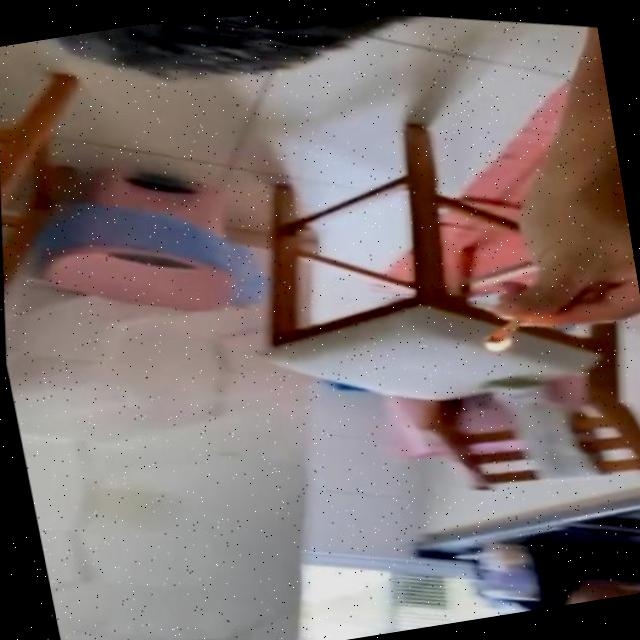fire: (479, 327, 517, 356)
